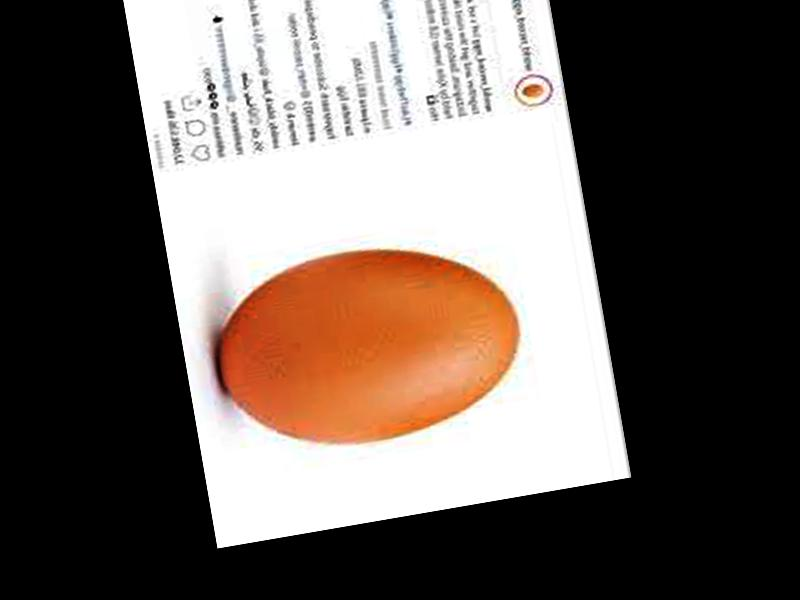Eggs: (206, 227, 533, 466)
